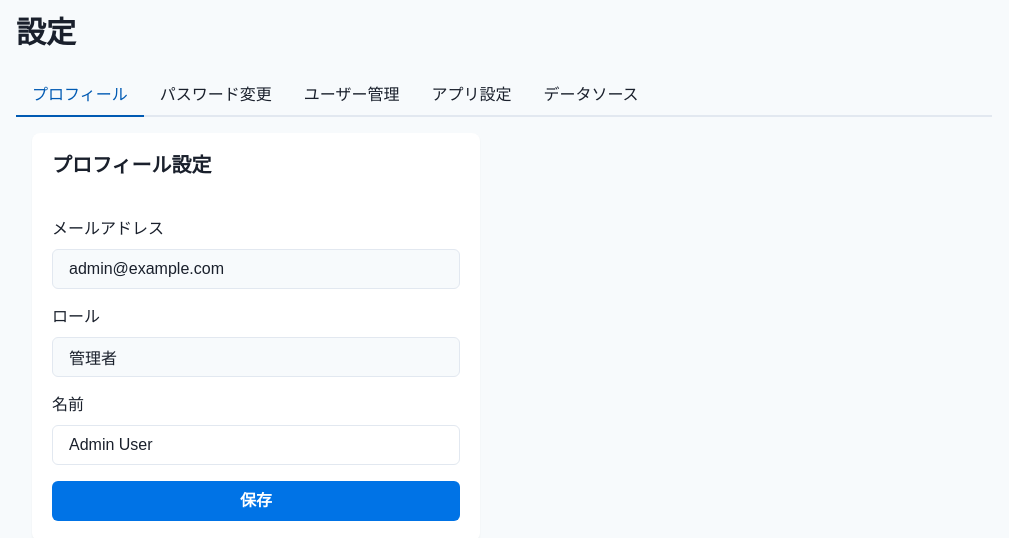
Test: SettingsPage › 管理者がアプリ設定タブをクリックするとコンテンツが表示される
The image size is (1009, 538).
What coordinates should you click on to do the following:
click the tab "アプリ設定"
I would click on:
 (471, 96)
Its box is [415,75,527,117].
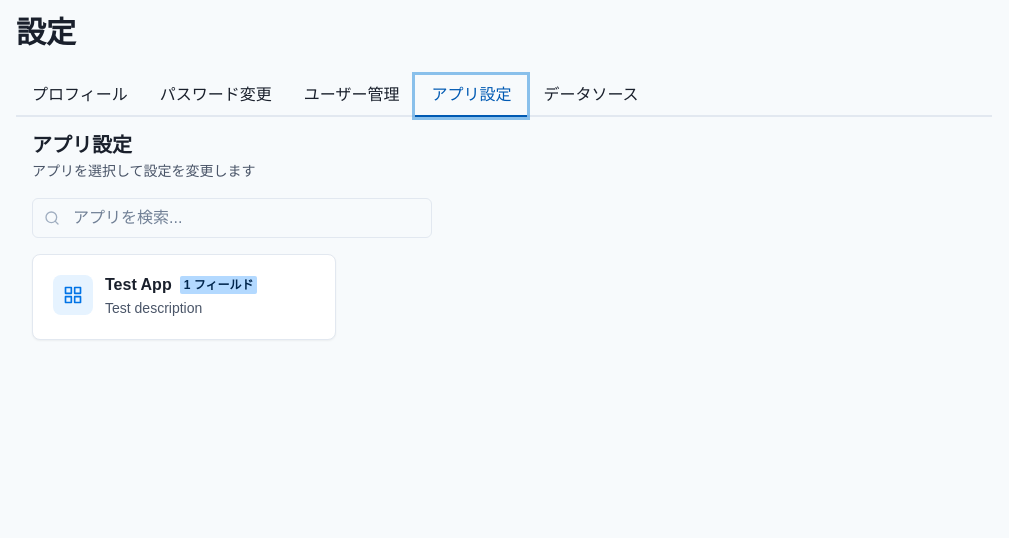
Result: the heading "アプリ設定" is shown at [32,134,132,156]
